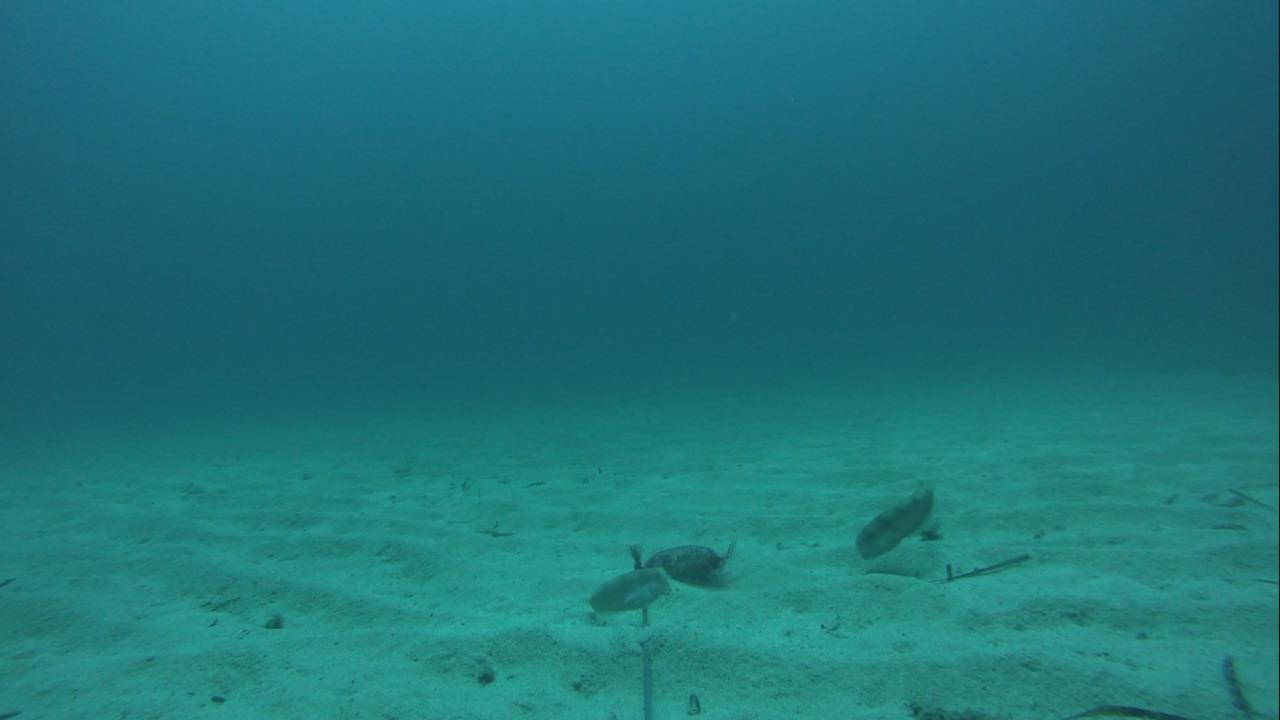raor: (854, 479, 934, 563), (585, 567, 673, 615)
